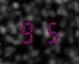five: (39, 20, 58, 43)
nine: (19, 20, 38, 44)
